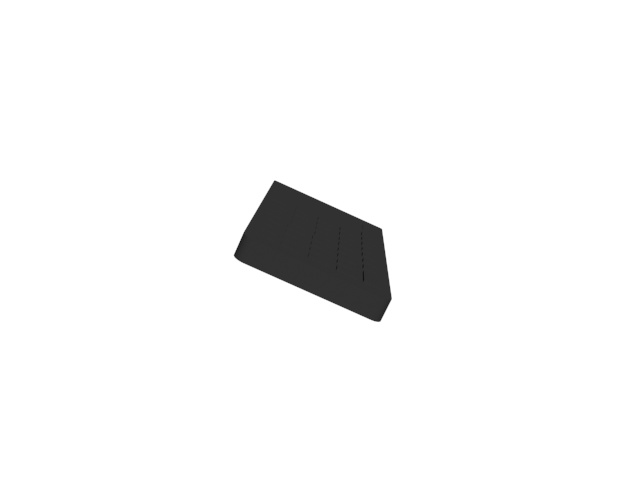calculator: (233, 177, 392, 328)
